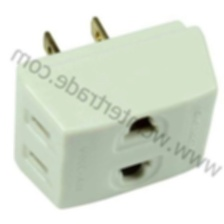three_eye_plug: (11, 13, 221, 213)
